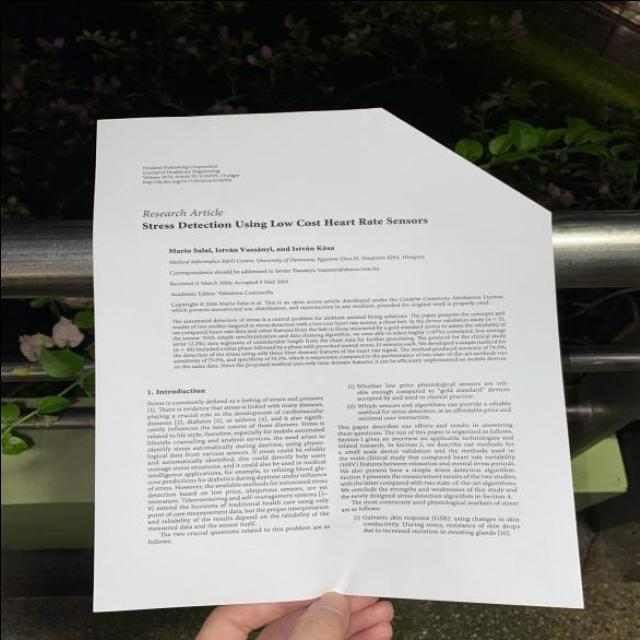kertas: (90, 106, 581, 610)
